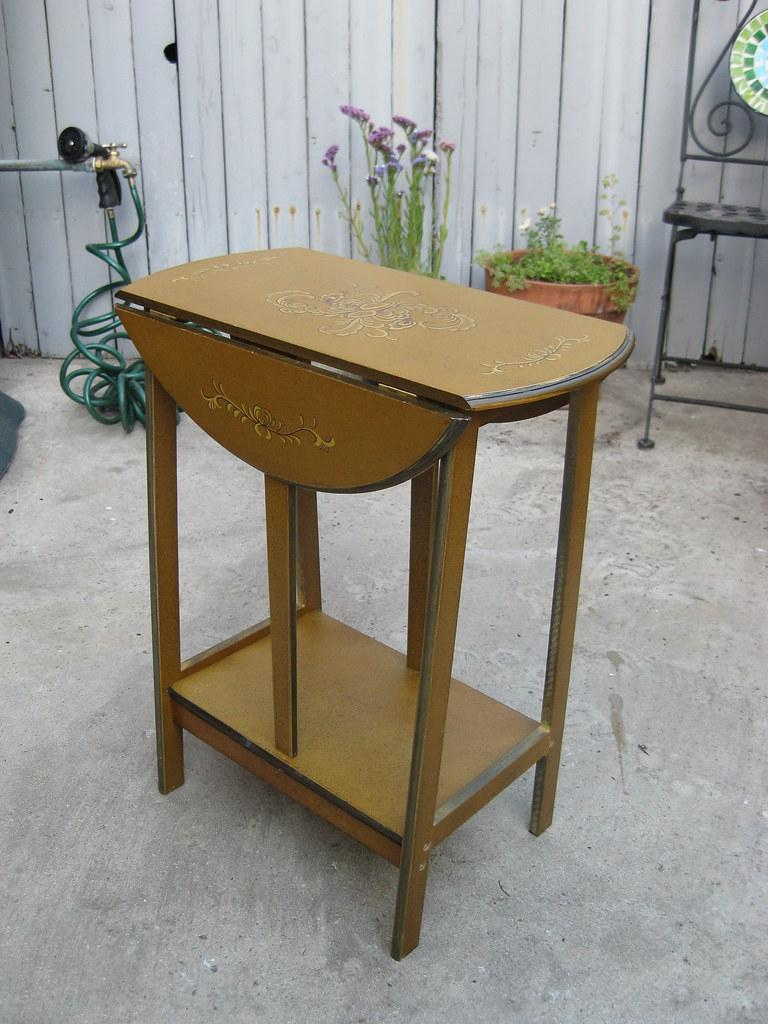table: (114, 244, 637, 961)
